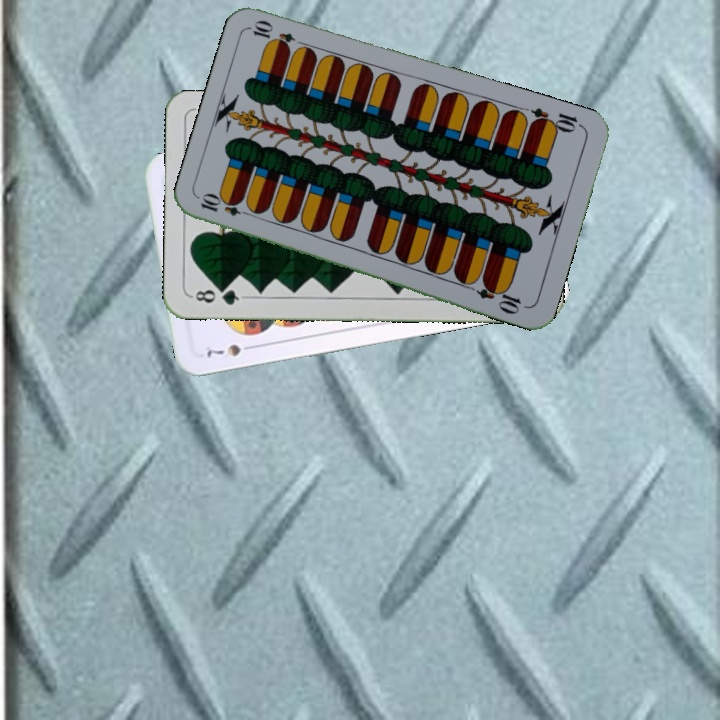E10: (526, 104, 585, 136), (196, 192, 255, 219)
G8: (188, 284, 247, 308)
S7: (202, 340, 258, 360)
